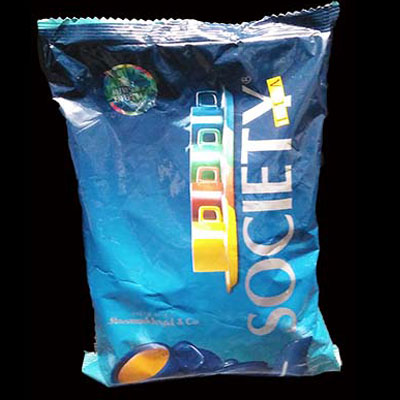society: (43, 36, 351, 379)
